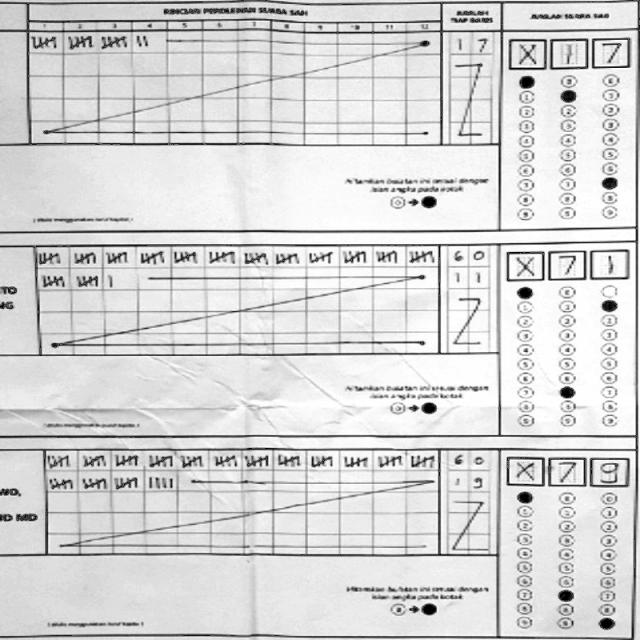Suara: (501, 452, 632, 491), (500, 245, 630, 282), (502, 35, 632, 70)
